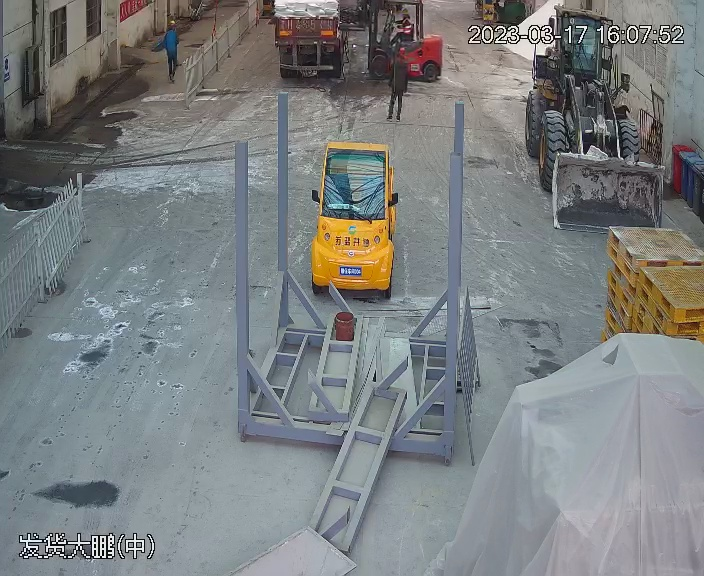head: (393, 46, 409, 71), (395, 8, 414, 27), (163, 19, 179, 39)
helmet: (402, 9, 410, 25), (399, 46, 407, 57), (168, 19, 177, 26)
people: (388, 45, 411, 122), (158, 17, 180, 74), (389, 7, 415, 44)
truck: (267, 1, 354, 80)
